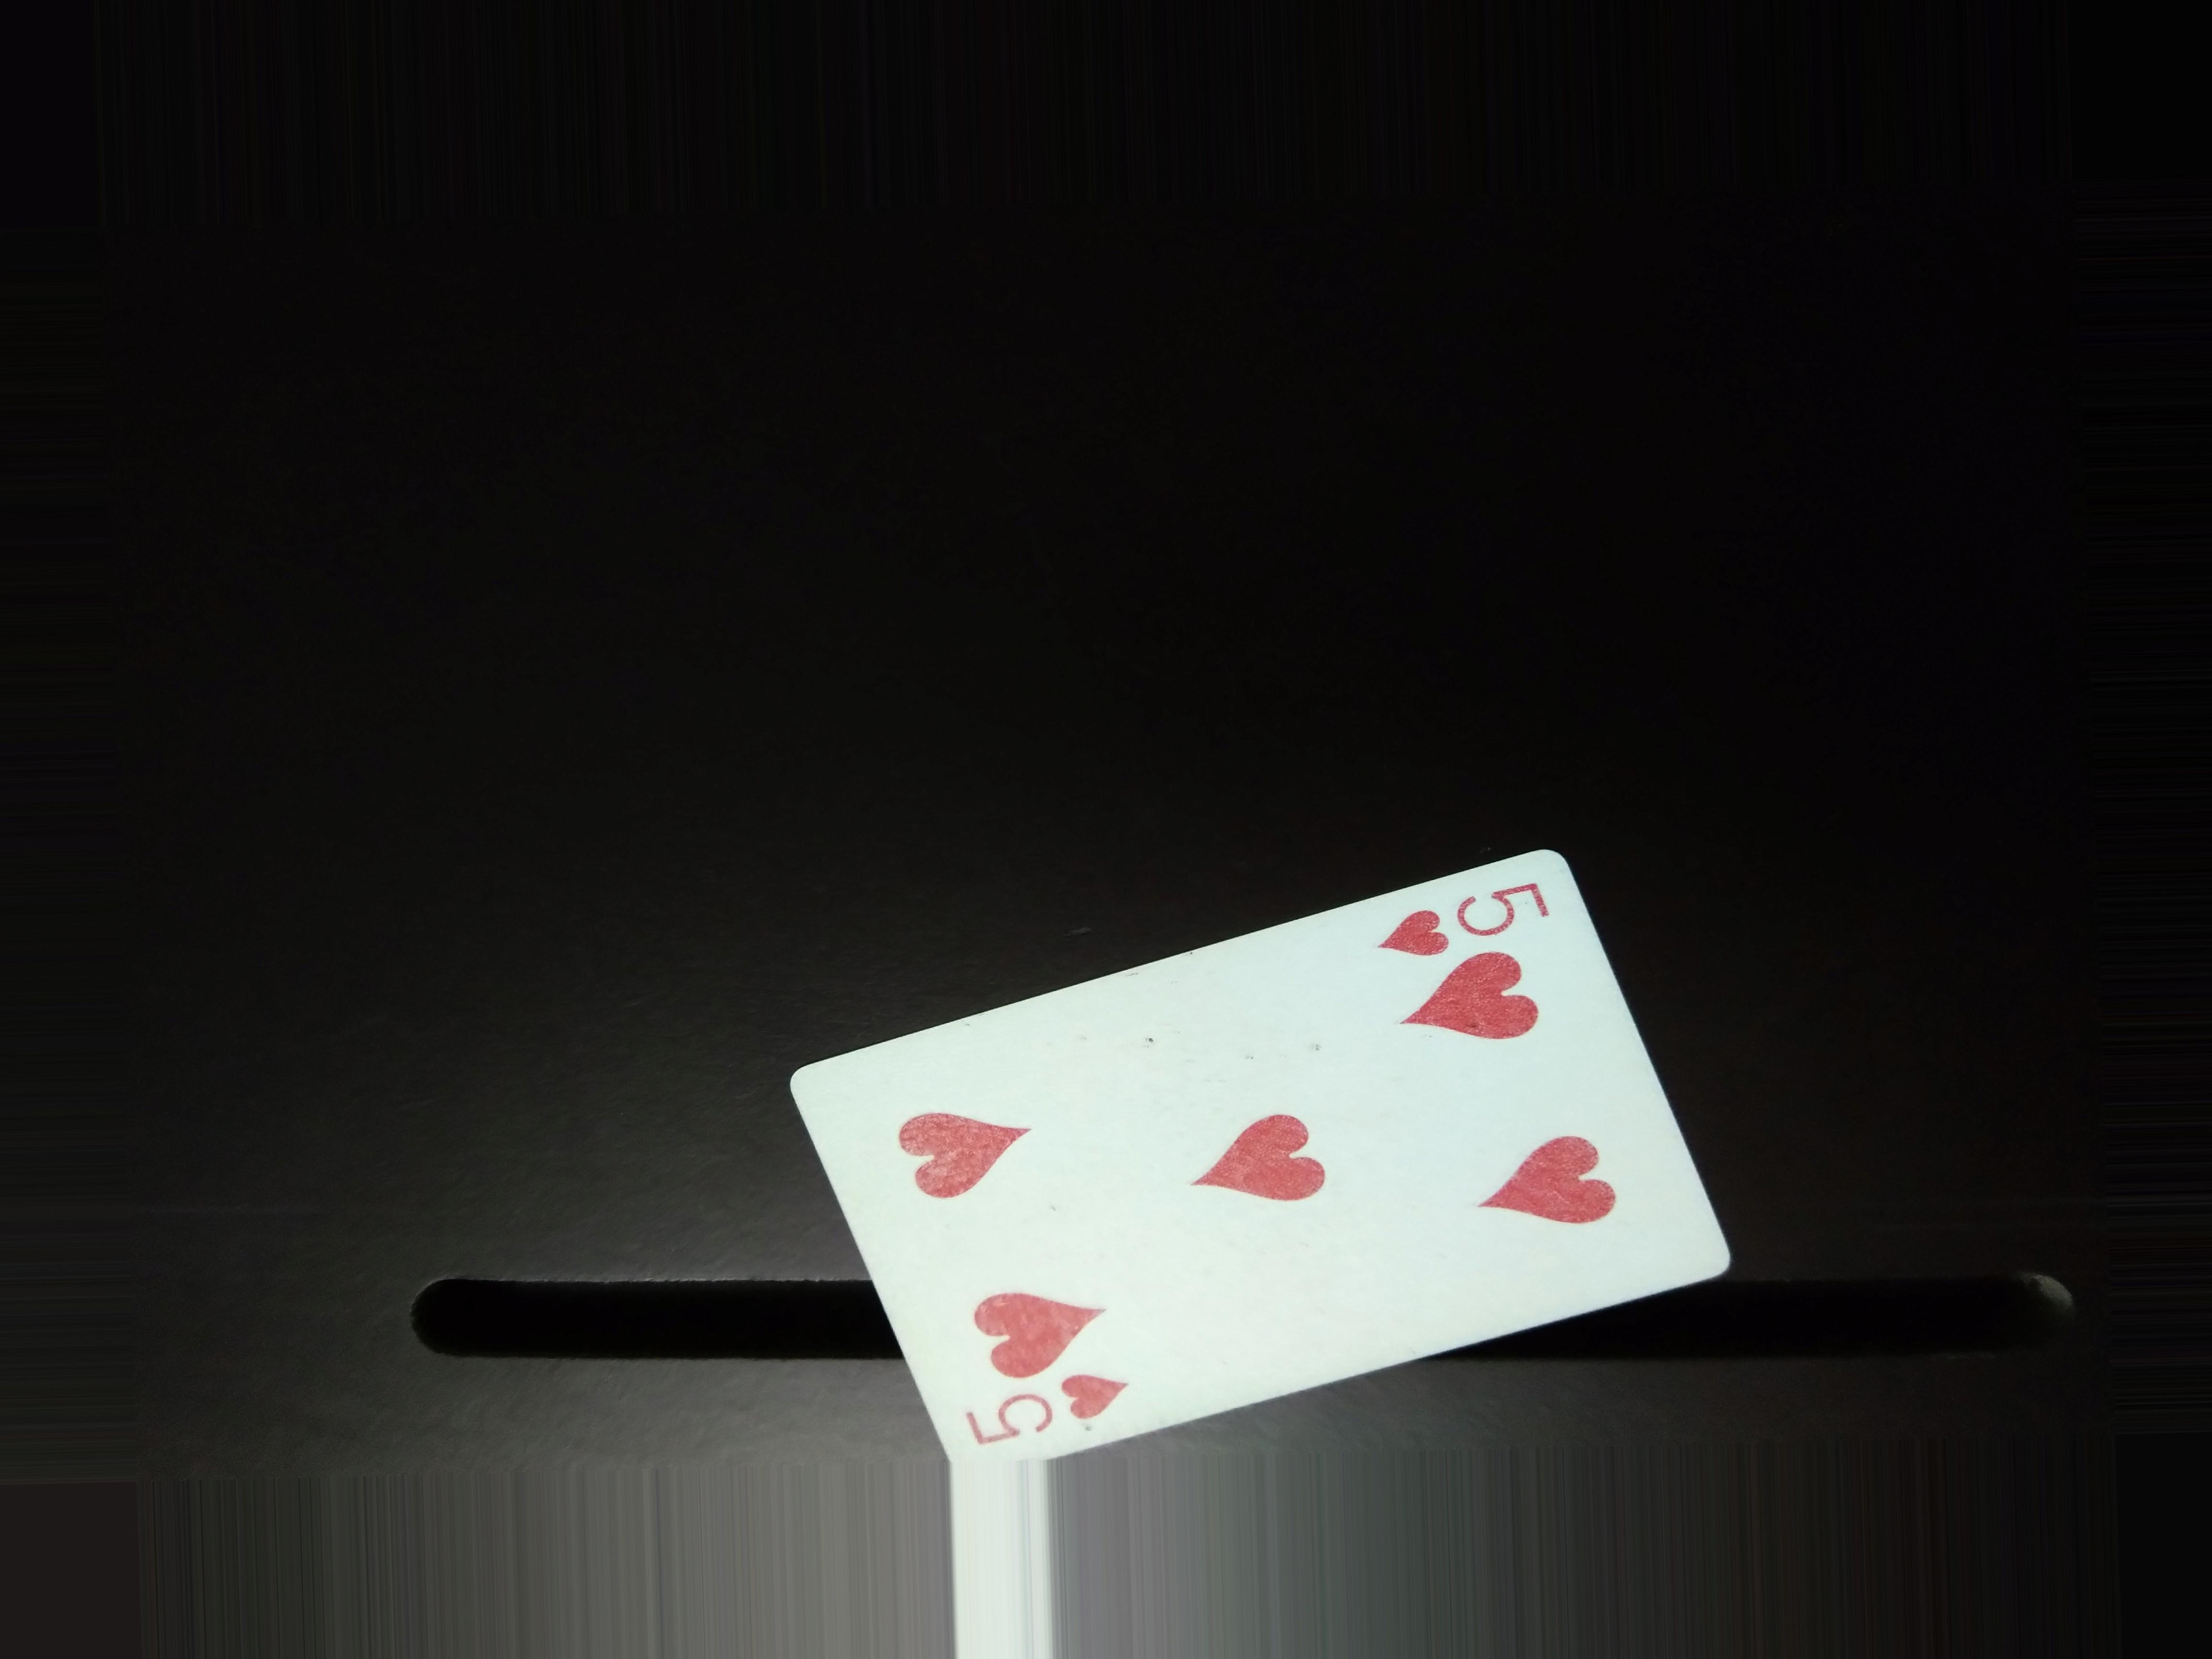5H: (1386, 868, 1557, 974)
